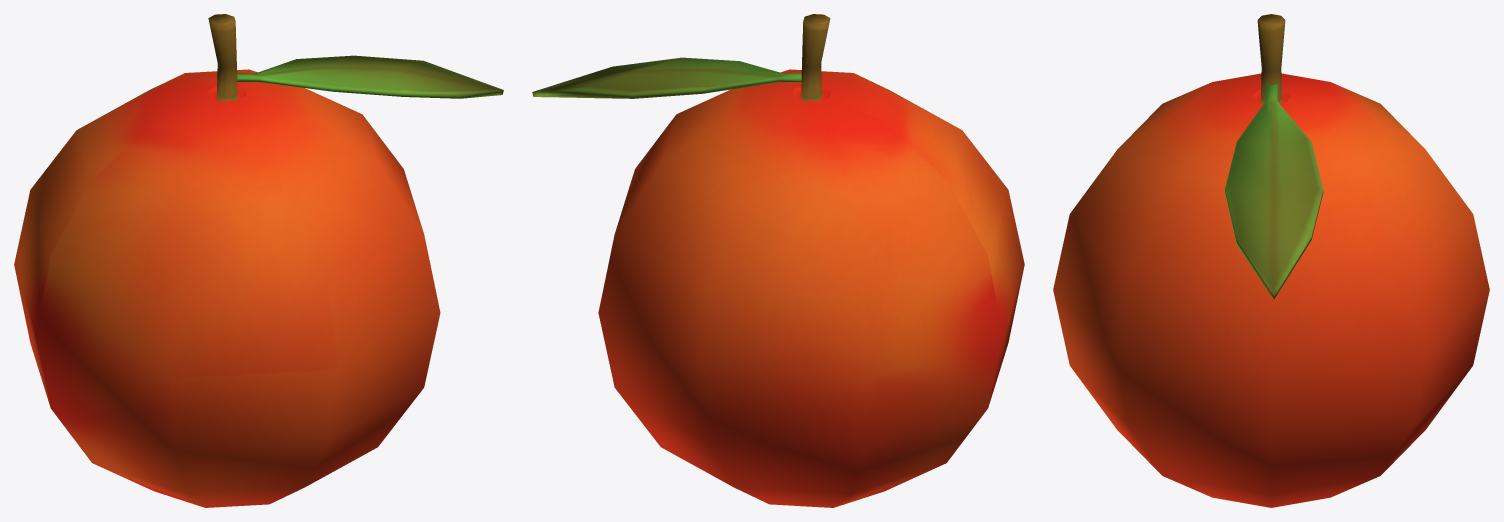
Rendered from apple_001.fbx.
3 views of the same model, side by side, from view 1: azimuth 30°, elevation 25°; view 2: azimuth 150°, elevation 25°; view 3: azimuth 270°, elevation 25° (orthographic).
Visible parts, largest first — view 1: Sphere; view 2: Sphere; view 3: Sphere.
Part boxes in pixels (x1,y1,x2,y2): Sphere: (14, 14, 503, 507); Sphere: (532, 14, 1024, 507); Sphere: (1053, 14, 1489, 507).
Bounding box in the file's own units: 245 × 235 × 200.
